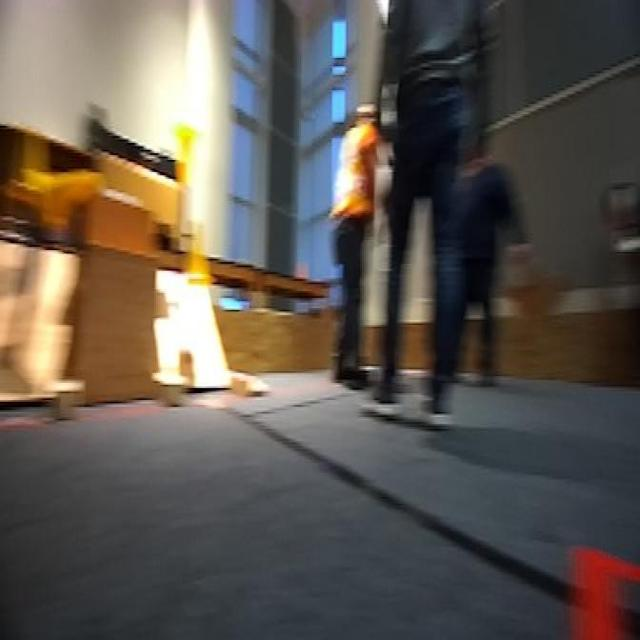frc_cone: (37, 160, 105, 231), (170, 111, 207, 189), (186, 218, 218, 294), (19, 134, 52, 206)
